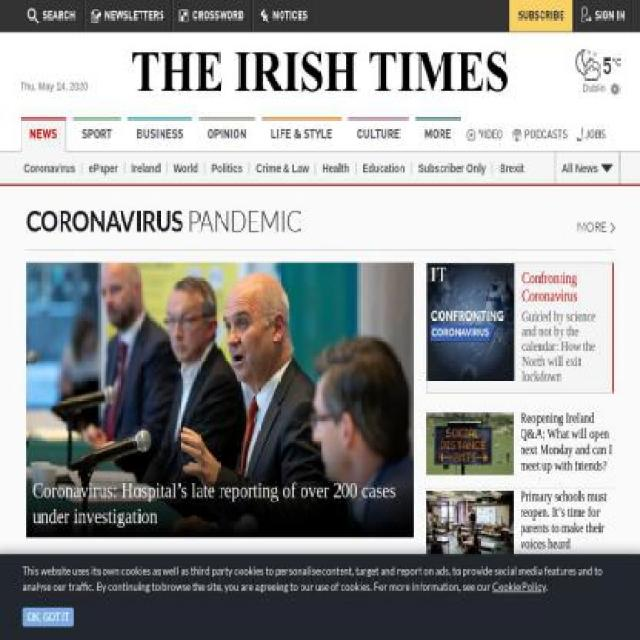button: (26, 262, 414, 538), (26, 567, 214, 639), (226, 567, 414, 639), (426, 570, 614, 638), (426, 489, 614, 556), (426, 410, 614, 475), (516, 263, 613, 385), (84, 0, 170, 32), (262, 119, 342, 152), (171, 0, 250, 32), (554, 151, 620, 184), (127, 119, 191, 152), (507, 0, 572, 32), (251, 0, 314, 32), (348, 119, 409, 152), (512, 119, 572, 152), (20, 0, 81, 32), (198, 119, 256, 152), (573, 0, 632, 32), (72, 119, 121, 152), (20, 119, 66, 152), (415, 119, 460, 152), (466, 119, 508, 152), (518, 52, 565, 76), (22, 607, 75, 627), (418, 162, 493, 175), (583, 119, 611, 152), (23, 162, 83, 175), (256, 162, 316, 175), (577, 217, 614, 237), (362, 162, 412, 175), (212, 162, 250, 175), (88, 162, 125, 175), (131, 162, 167, 175), (321, 162, 357, 175), (498, 162, 531, 175), (173, 162, 205, 175)
